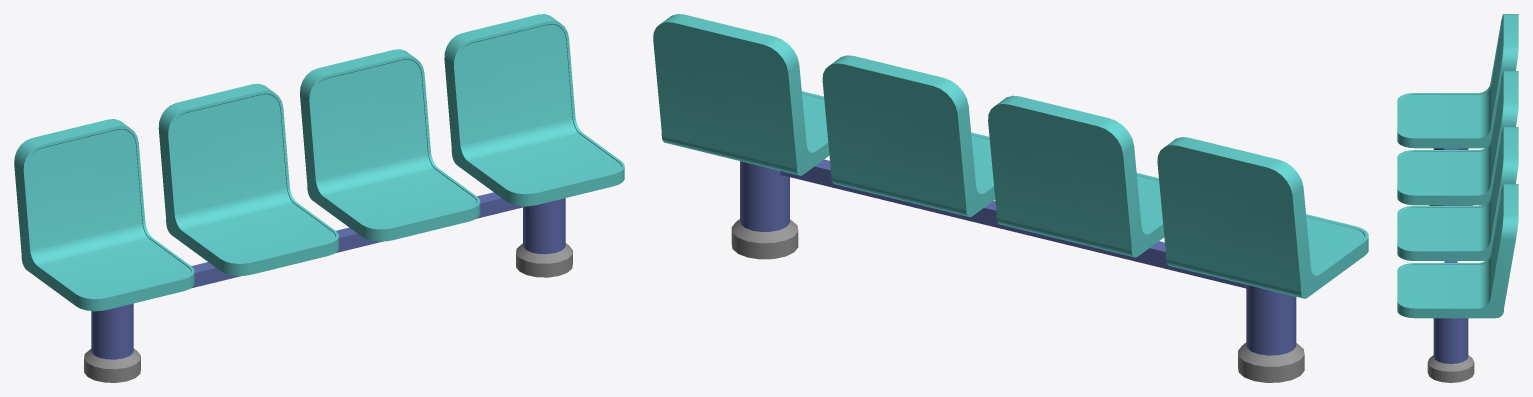
File: Station Bench.fbx
The picture shows the model from 3 angles, left to right: view 1: azimuth 30°, elevation 25°; view 2: azimuth 150°, elevation 25°; view 3: azimuth 270°, elevation 25°; orthographic projection. The views are drawn at different scales.
Parts seen in each view (by area): view 1: Bench Seat, Bench Frame; view 2: Bench Seat, Bench Frame; view 3: Bench Seat, Bench Frame.
Boxes of the visible parts, <box> form: Bench Seat: <box>14,14,624,311</box>; Bench Frame: <box>84,192,572,382</box>; Bench Seat: <box>653,14,1368,298</box>; Bench Frame: <box>731,159,1304,382</box>; Bench Seat: <box>1397,14,1518,318</box>; Bench Frame: <box>1427,148,1474,382</box>.
Bounding box in the file's own units: 947 × 351 × 226.
